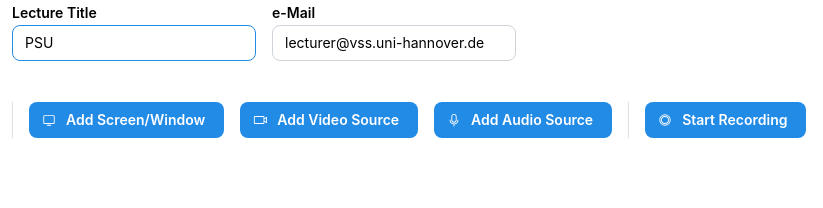
Test: the menu behind rc-btn-addvideo stays open after a refresh that only listed devices
The image size is (823, 208).
What coordinates should you click on to do the following:
click the button with test id "rc-btn-addvideo"
I would click on:
 (329, 120)
Its box is [240,102,418,138].
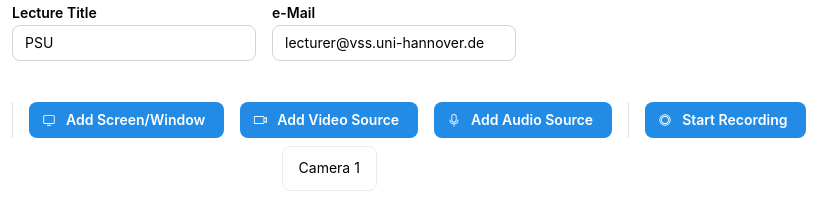
Expected: the menu item "Camera 1" is shown, [286,151,372,186]
